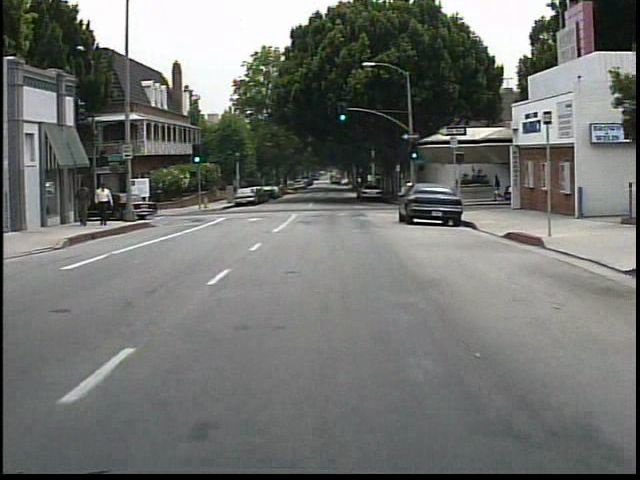person: (98, 180, 120, 227), (78, 182, 97, 229), (489, 170, 506, 205)
